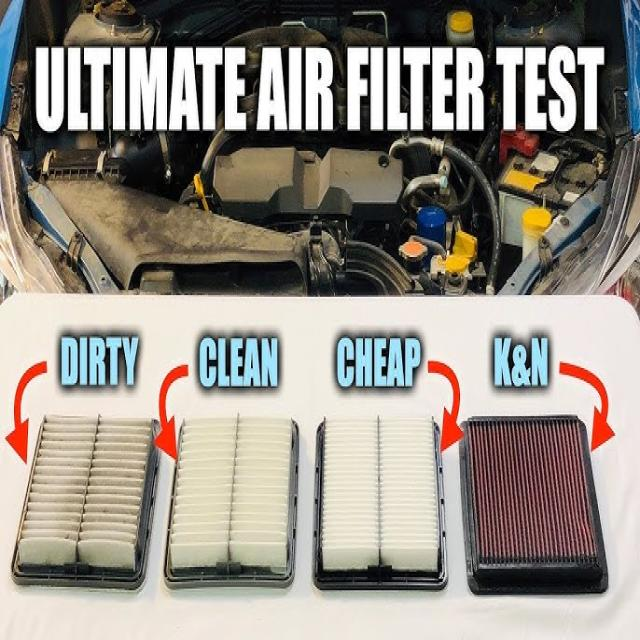air_filter: (308, 415, 448, 595), (460, 416, 608, 585), (14, 419, 155, 587), (164, 415, 300, 588)
